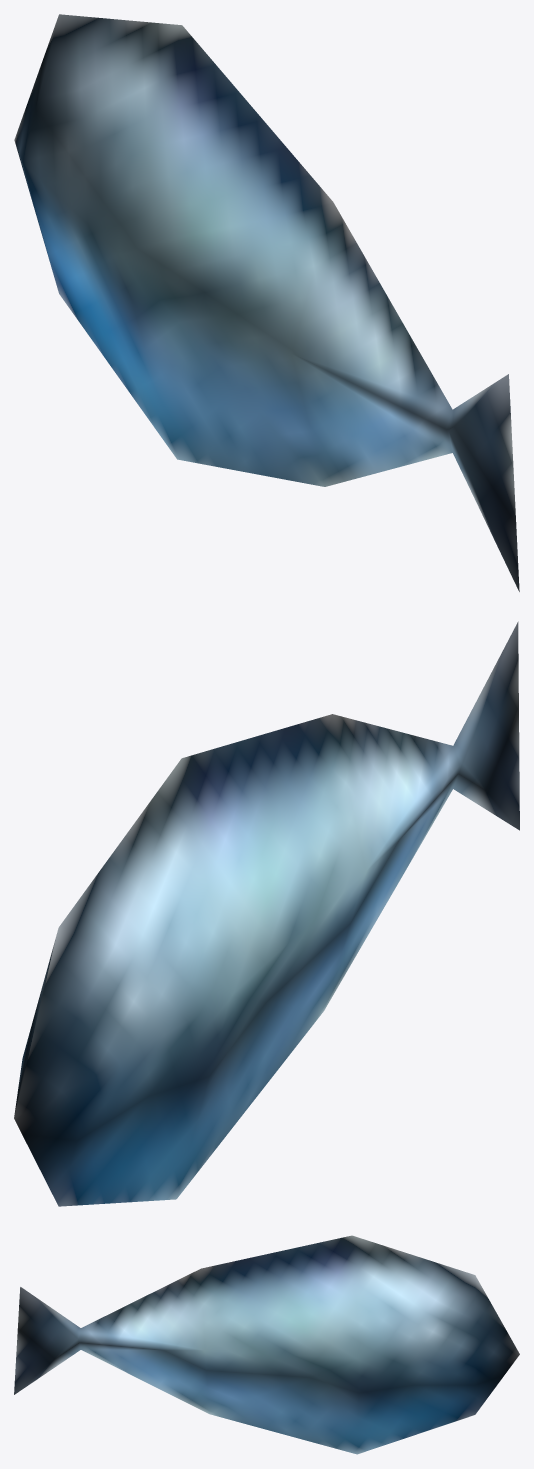
File: animal.fish.glb
The picture shows the model from 3 angles, top to bottom: view 1: azimuth 30°, elevation 25°; view 2: azimuth 150°, elevation 25°; view 3: azimuth 270°, elevation 25°; orthographic projection. The views are drawn at different scales.
Parts seen in each view (by area): view 1: Cube009; view 2: Cube009; view 3: Cube009.
Part boxes in pixels (box(x1,y1,x2,y2)): Cube009: box(14, 14, 519, 591); Cube009: box(14, 621, 519, 1206); Cube009: box(14, 1235, 519, 1454).
Bounding box in the file's own units: 0.0582 × 0.2149 × 0.45.
Materials: 1 (1 with a texture image).
